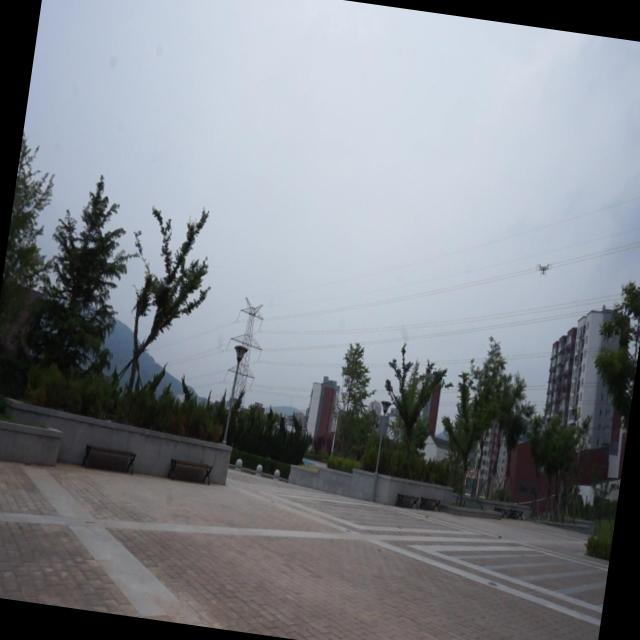drone: (532, 256, 556, 279)
